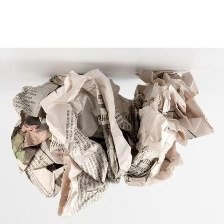news_paper: (6, 65, 216, 218)
